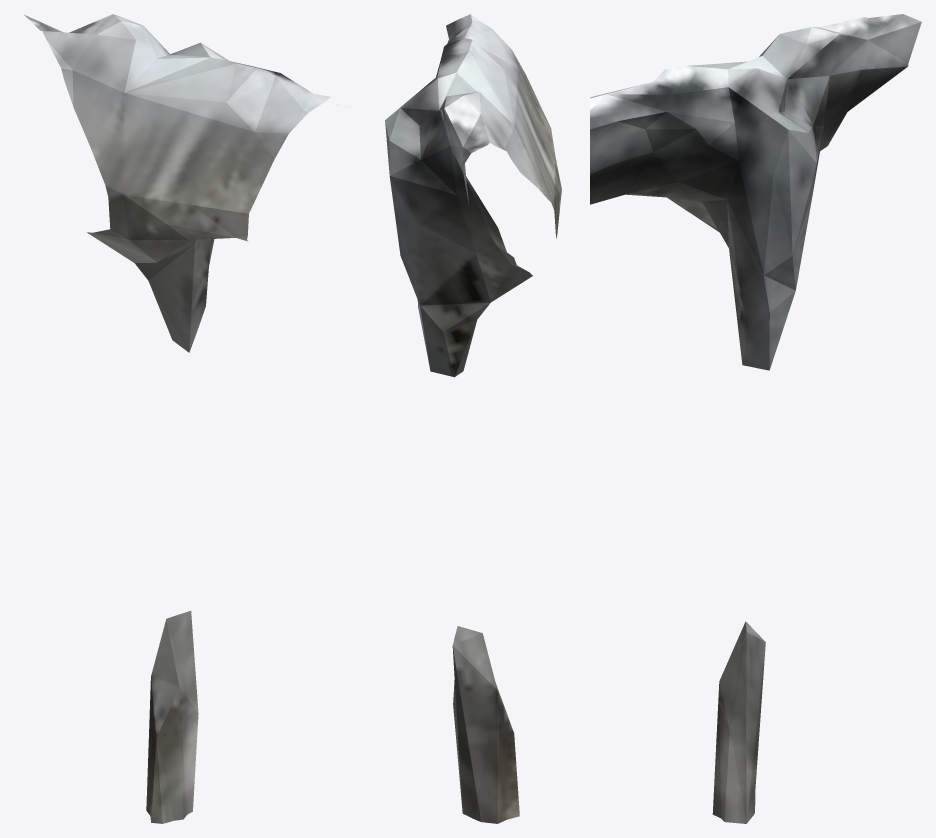
3 views of the same model, side by side, from view 1: azimuth 30°, elevation 25°; view 2: azimuth 150°, elevation 25°; view 3: azimuth 270°, elevation 25° (orthographic). The views are drawn at different scales.
Bounding box in the file's own units: 0.3512 × 1.43 × 0.5513.
1 material, 1 textured.
